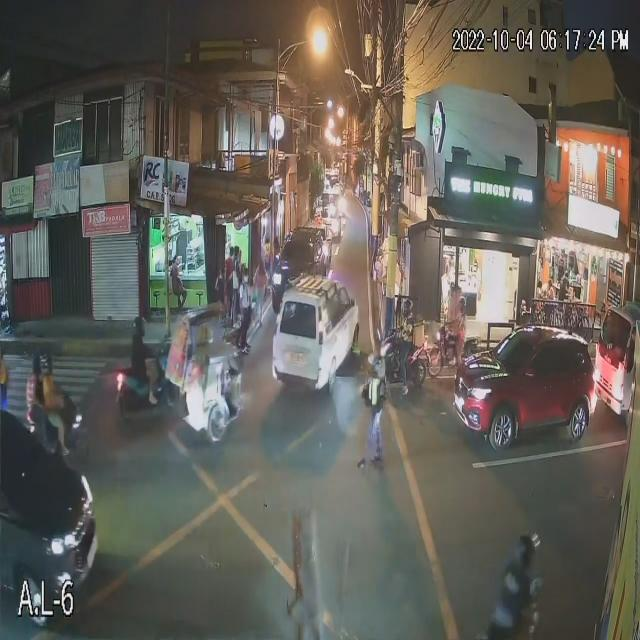helmet: (515, 540, 541, 562), (400, 301, 415, 313), (132, 321, 147, 332), (39, 361, 53, 370)
motorcycle: (106, 360, 184, 417), (25, 409, 88, 449), (377, 343, 423, 387), (428, 333, 483, 366)
rider: (504, 568, 523, 625), (43, 382, 59, 431), (396, 320, 412, 366), (133, 344, 150, 386), (26, 381, 39, 422)
